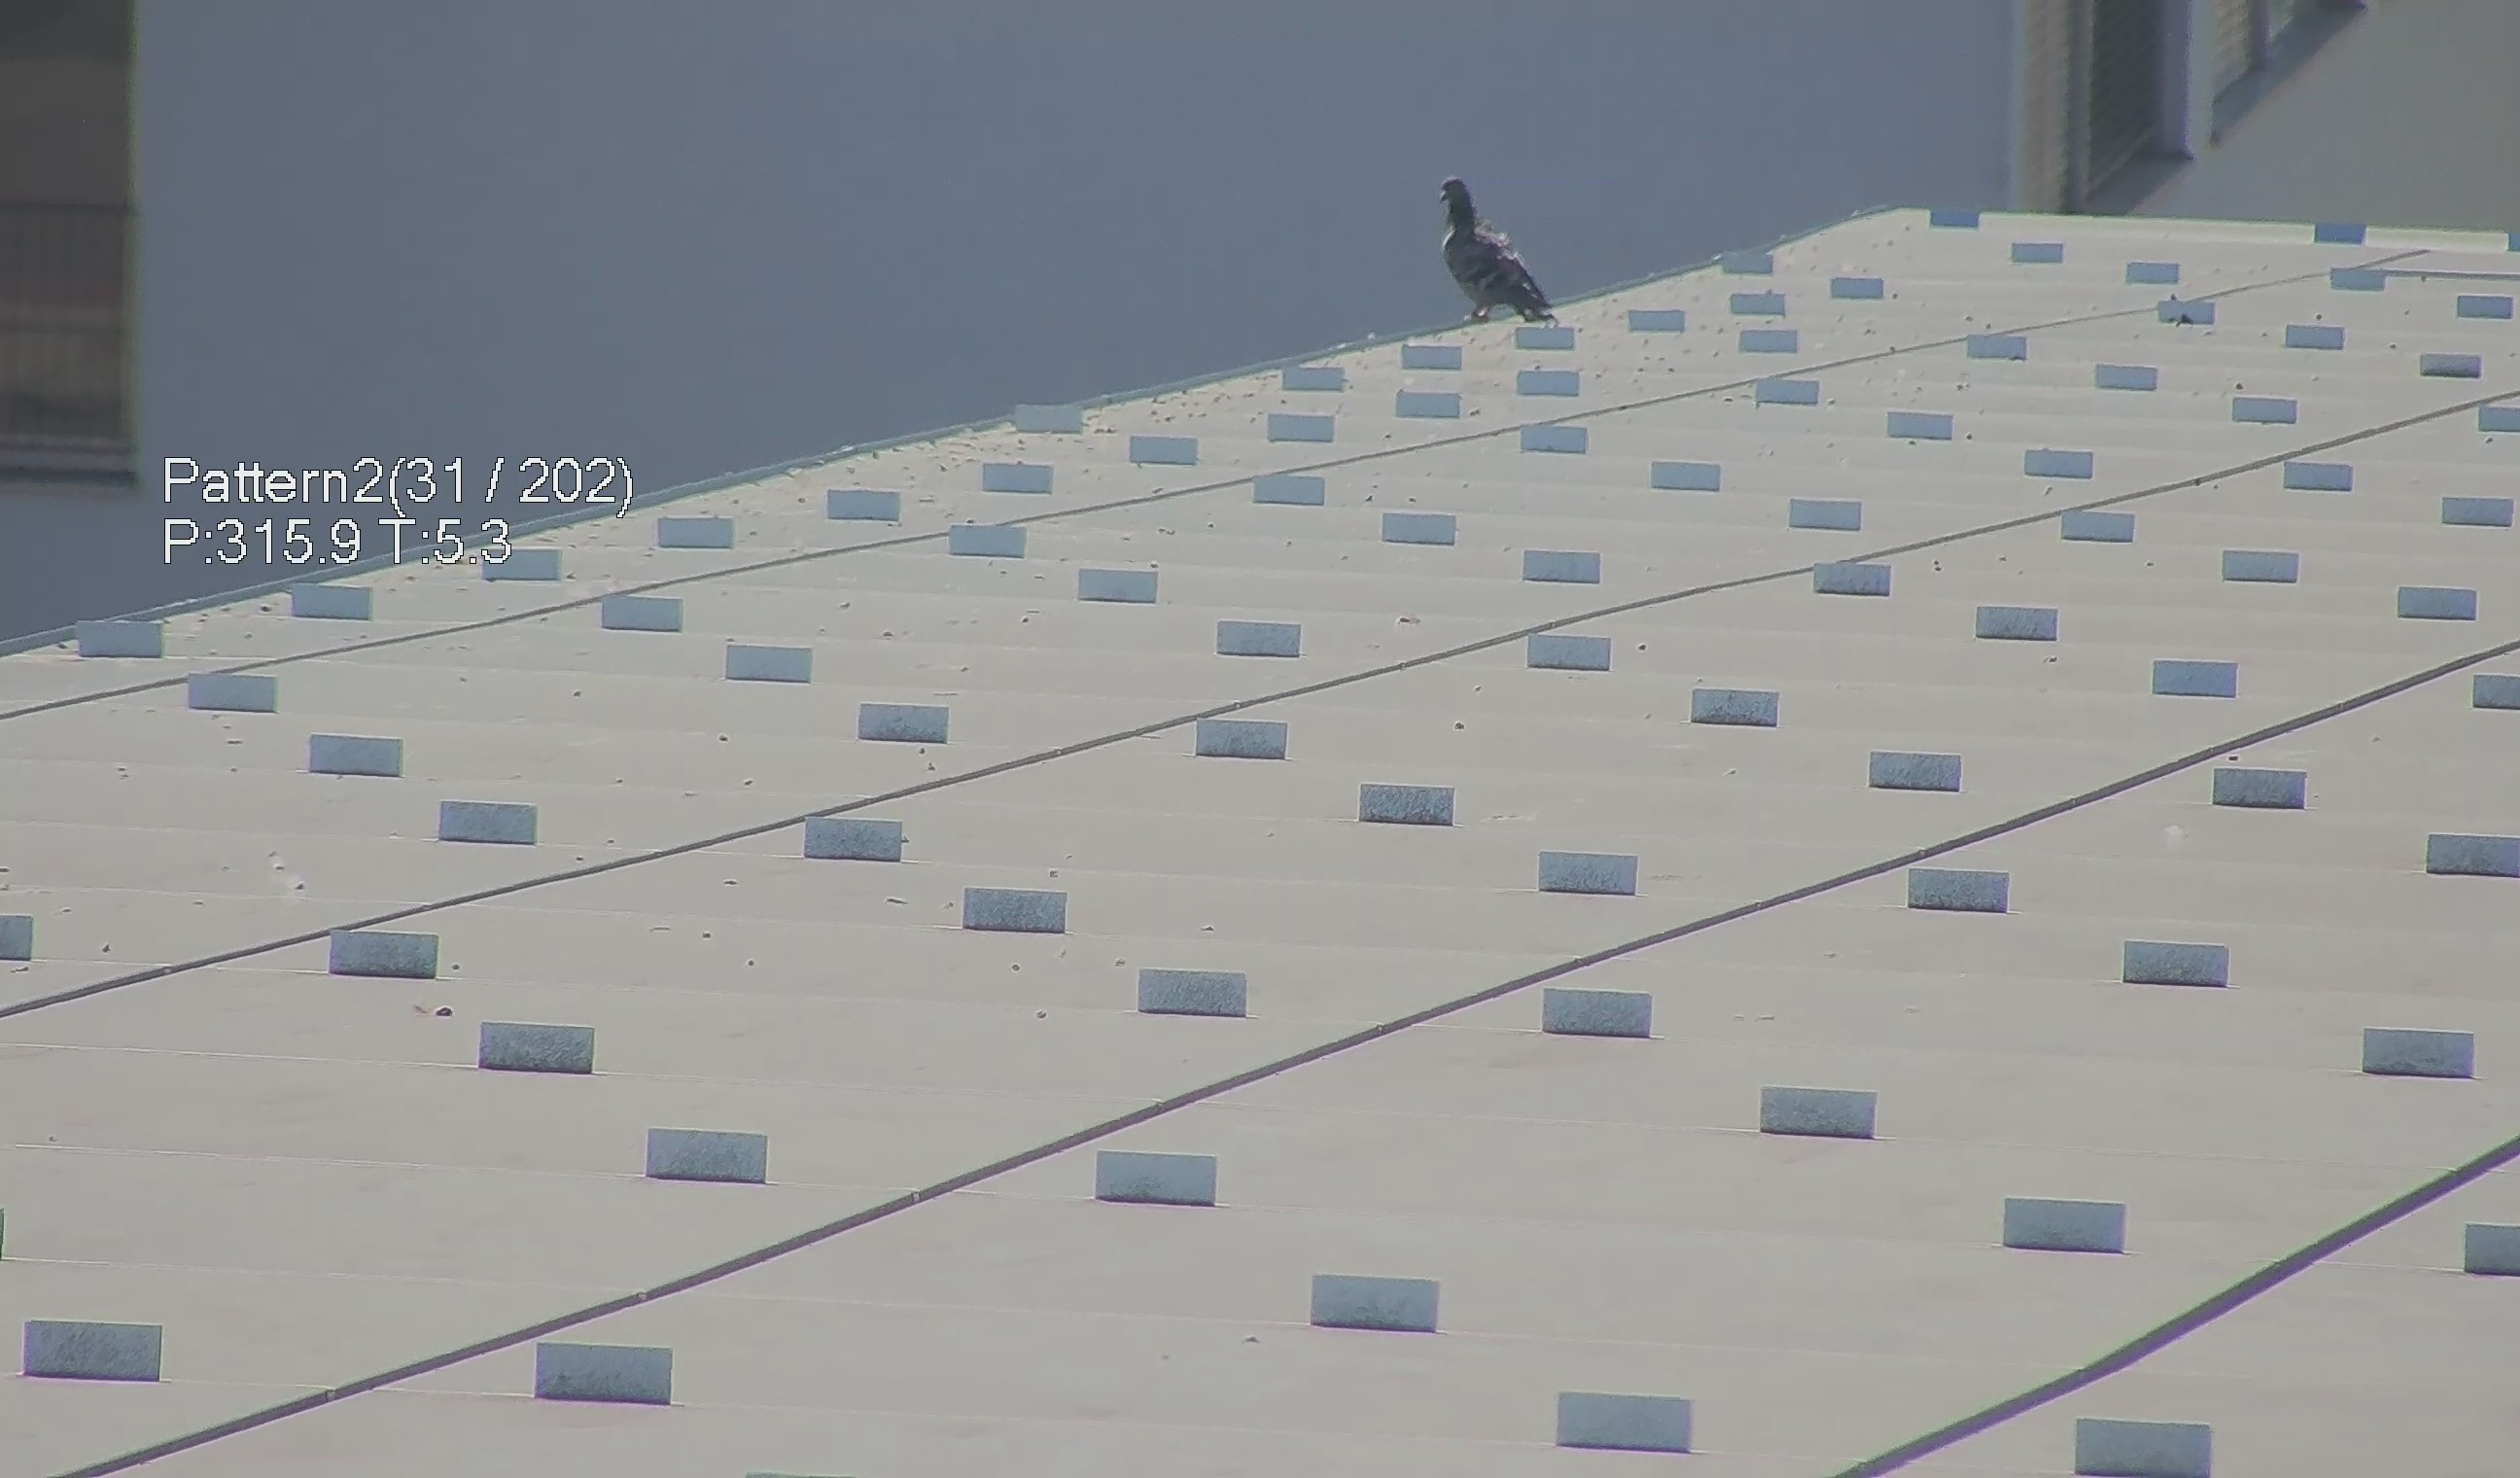Pigeon: (1419, 164, 1567, 334)
